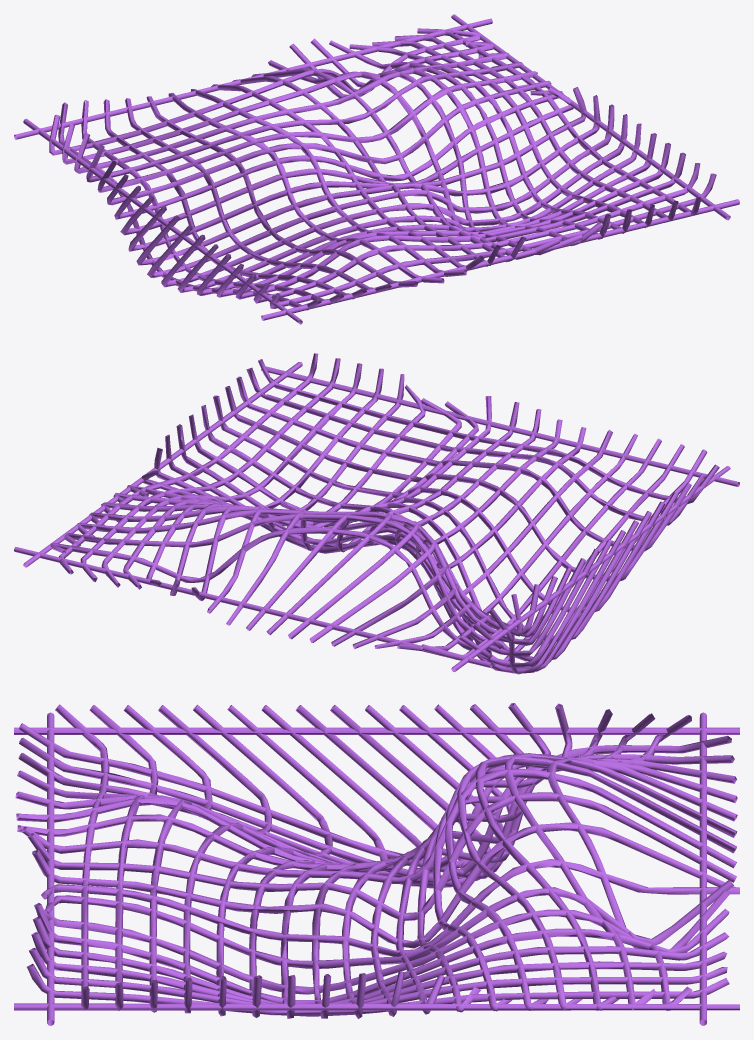
Rendered from HillySurface.gltf.
The picture shows the model from 3 angles, top to bottom: view 1: azimuth 30°, elevation 25°; view 2: azimuth 150°, elevation 25°; view 3: azimuth 270°, elevation 25°; orthographic projection. The views are drawn at different scales.
Parts seen in each view (by area): view 1: hilly surface; view 2: hilly surface; view 3: hilly surface.
Part boxes in pixels (x1,y1,x2,y2): hilly surface: (14, 14, 739, 324); hilly surface: (14, 353, 739, 674); hilly surface: (14, 703, 739, 1025).
Size of the model in its own units: 99 by 26.9 by 99.
